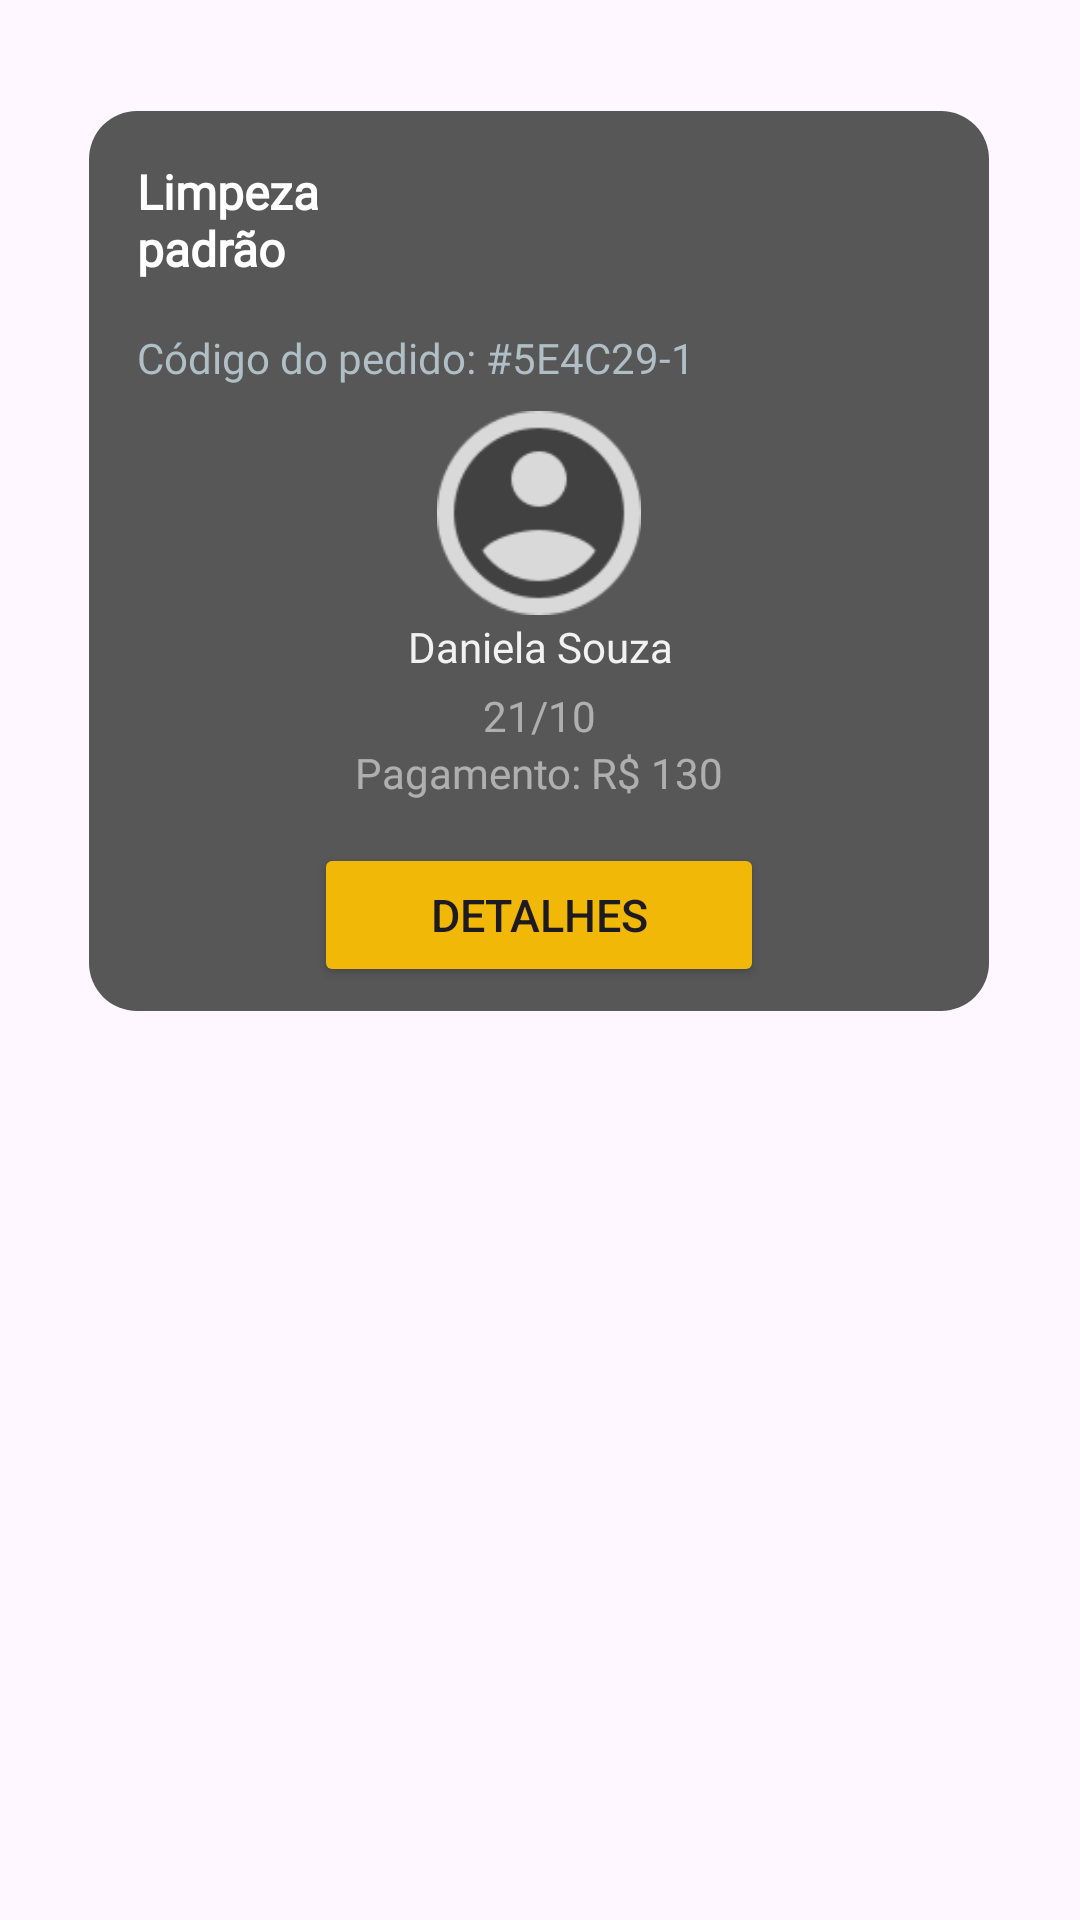

Icon click points for this 1080 x 1920 phone screenshot, format (x=x, y=y):
fotodeperfil generica: (x=539, y=513)
